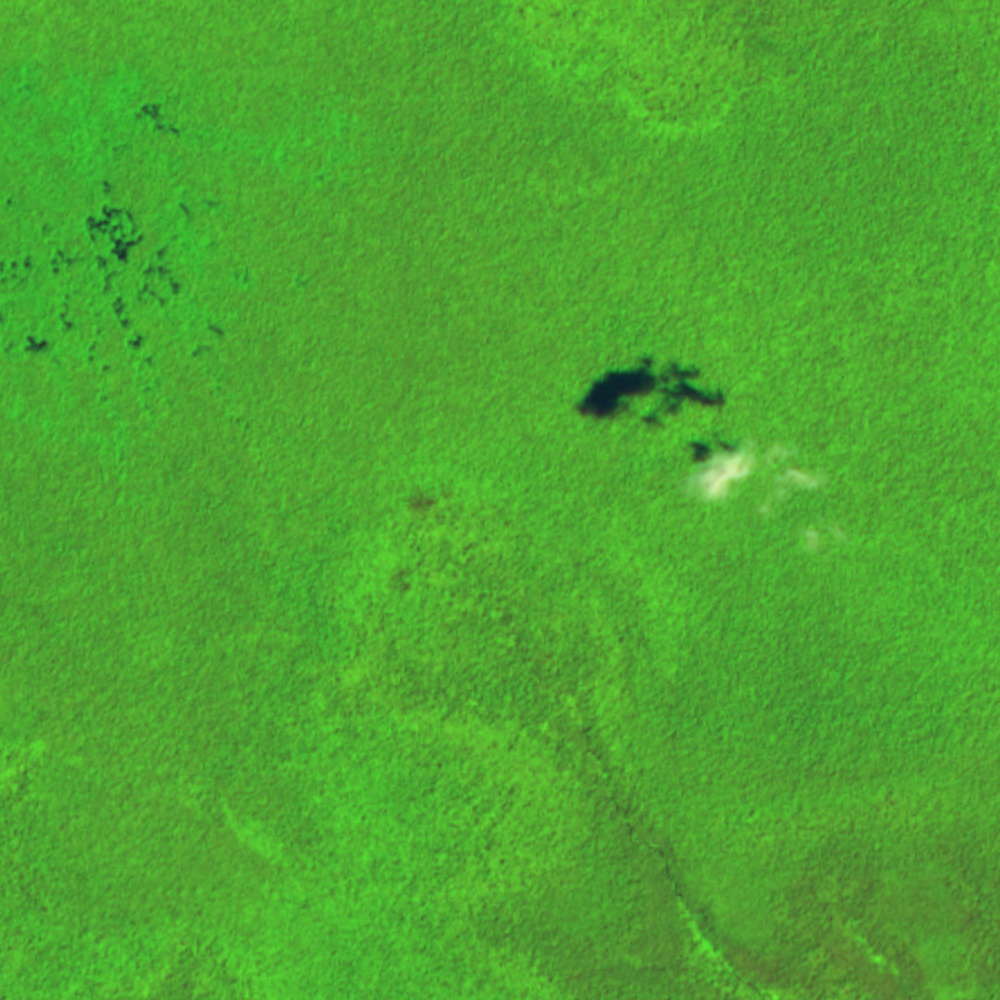illegal: (1, 182, 204, 379), (130, 98, 185, 140)
